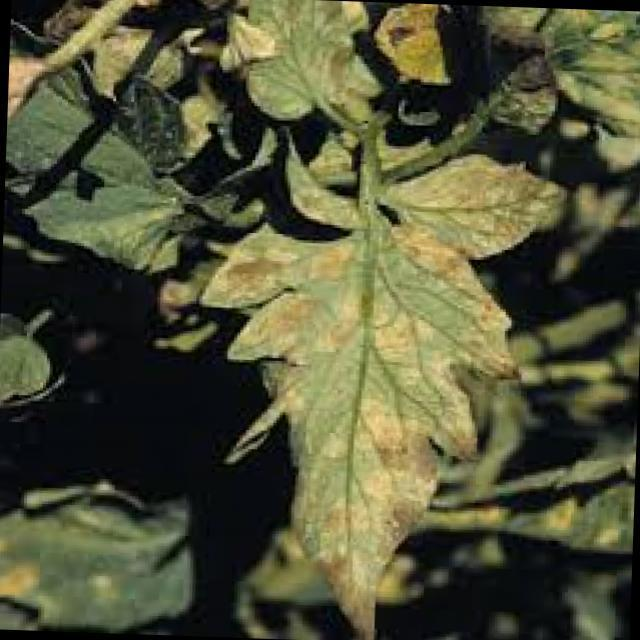Mosaic Virus: (217, 217, 501, 640)
